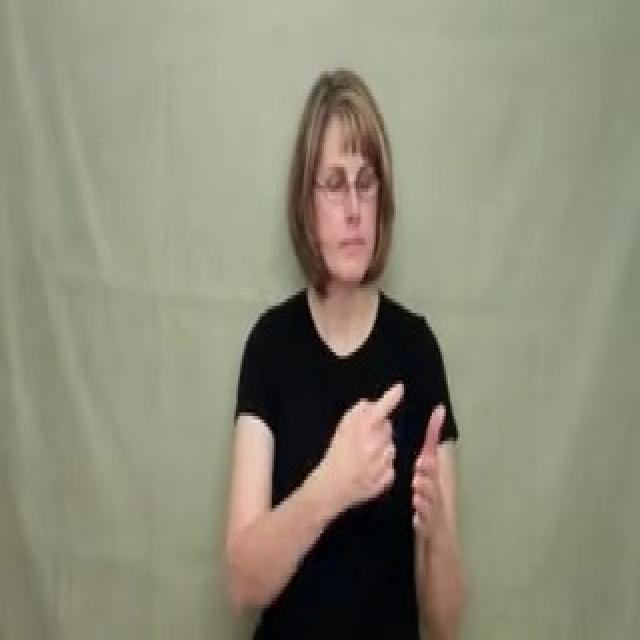cost: (342, 376, 455, 559)
